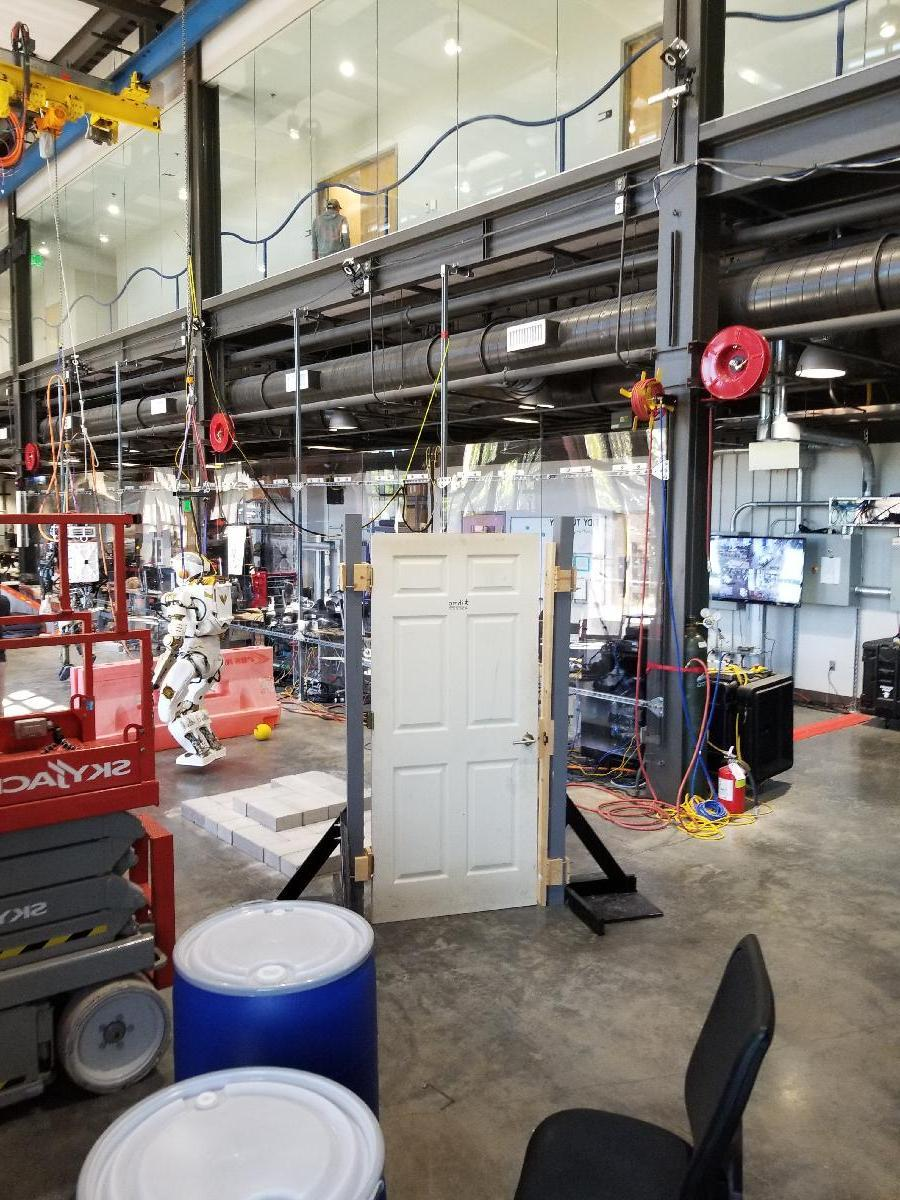door: (362, 536, 550, 920)
handle: (512, 732, 534, 748)
